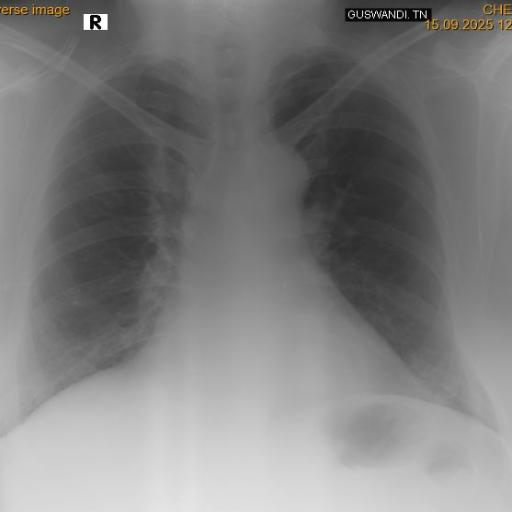kardiomegali: (0, 34, 506, 438)
